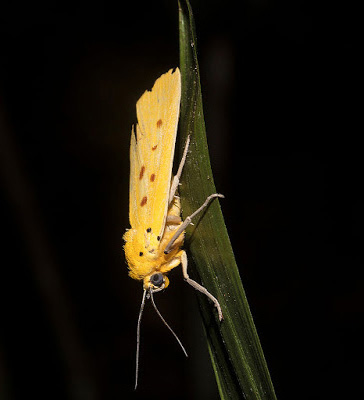Agape chloropyga: (117, 61, 225, 388)
moth: (119, 63, 227, 390)
